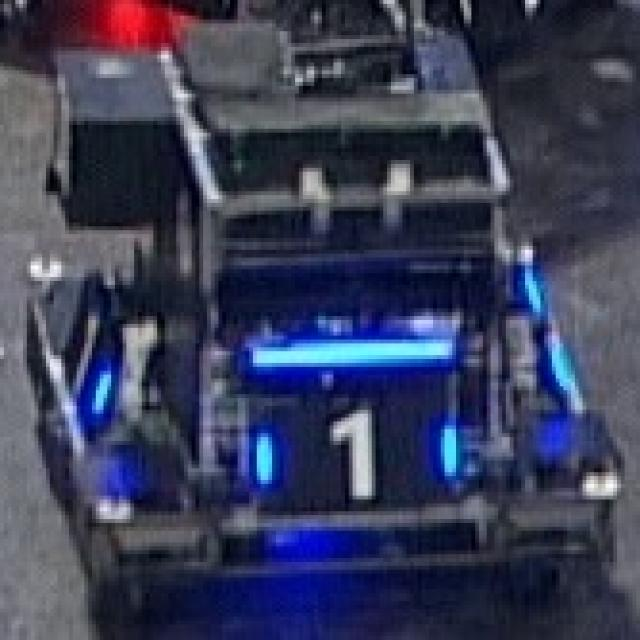B1: (253, 402, 460, 503)
